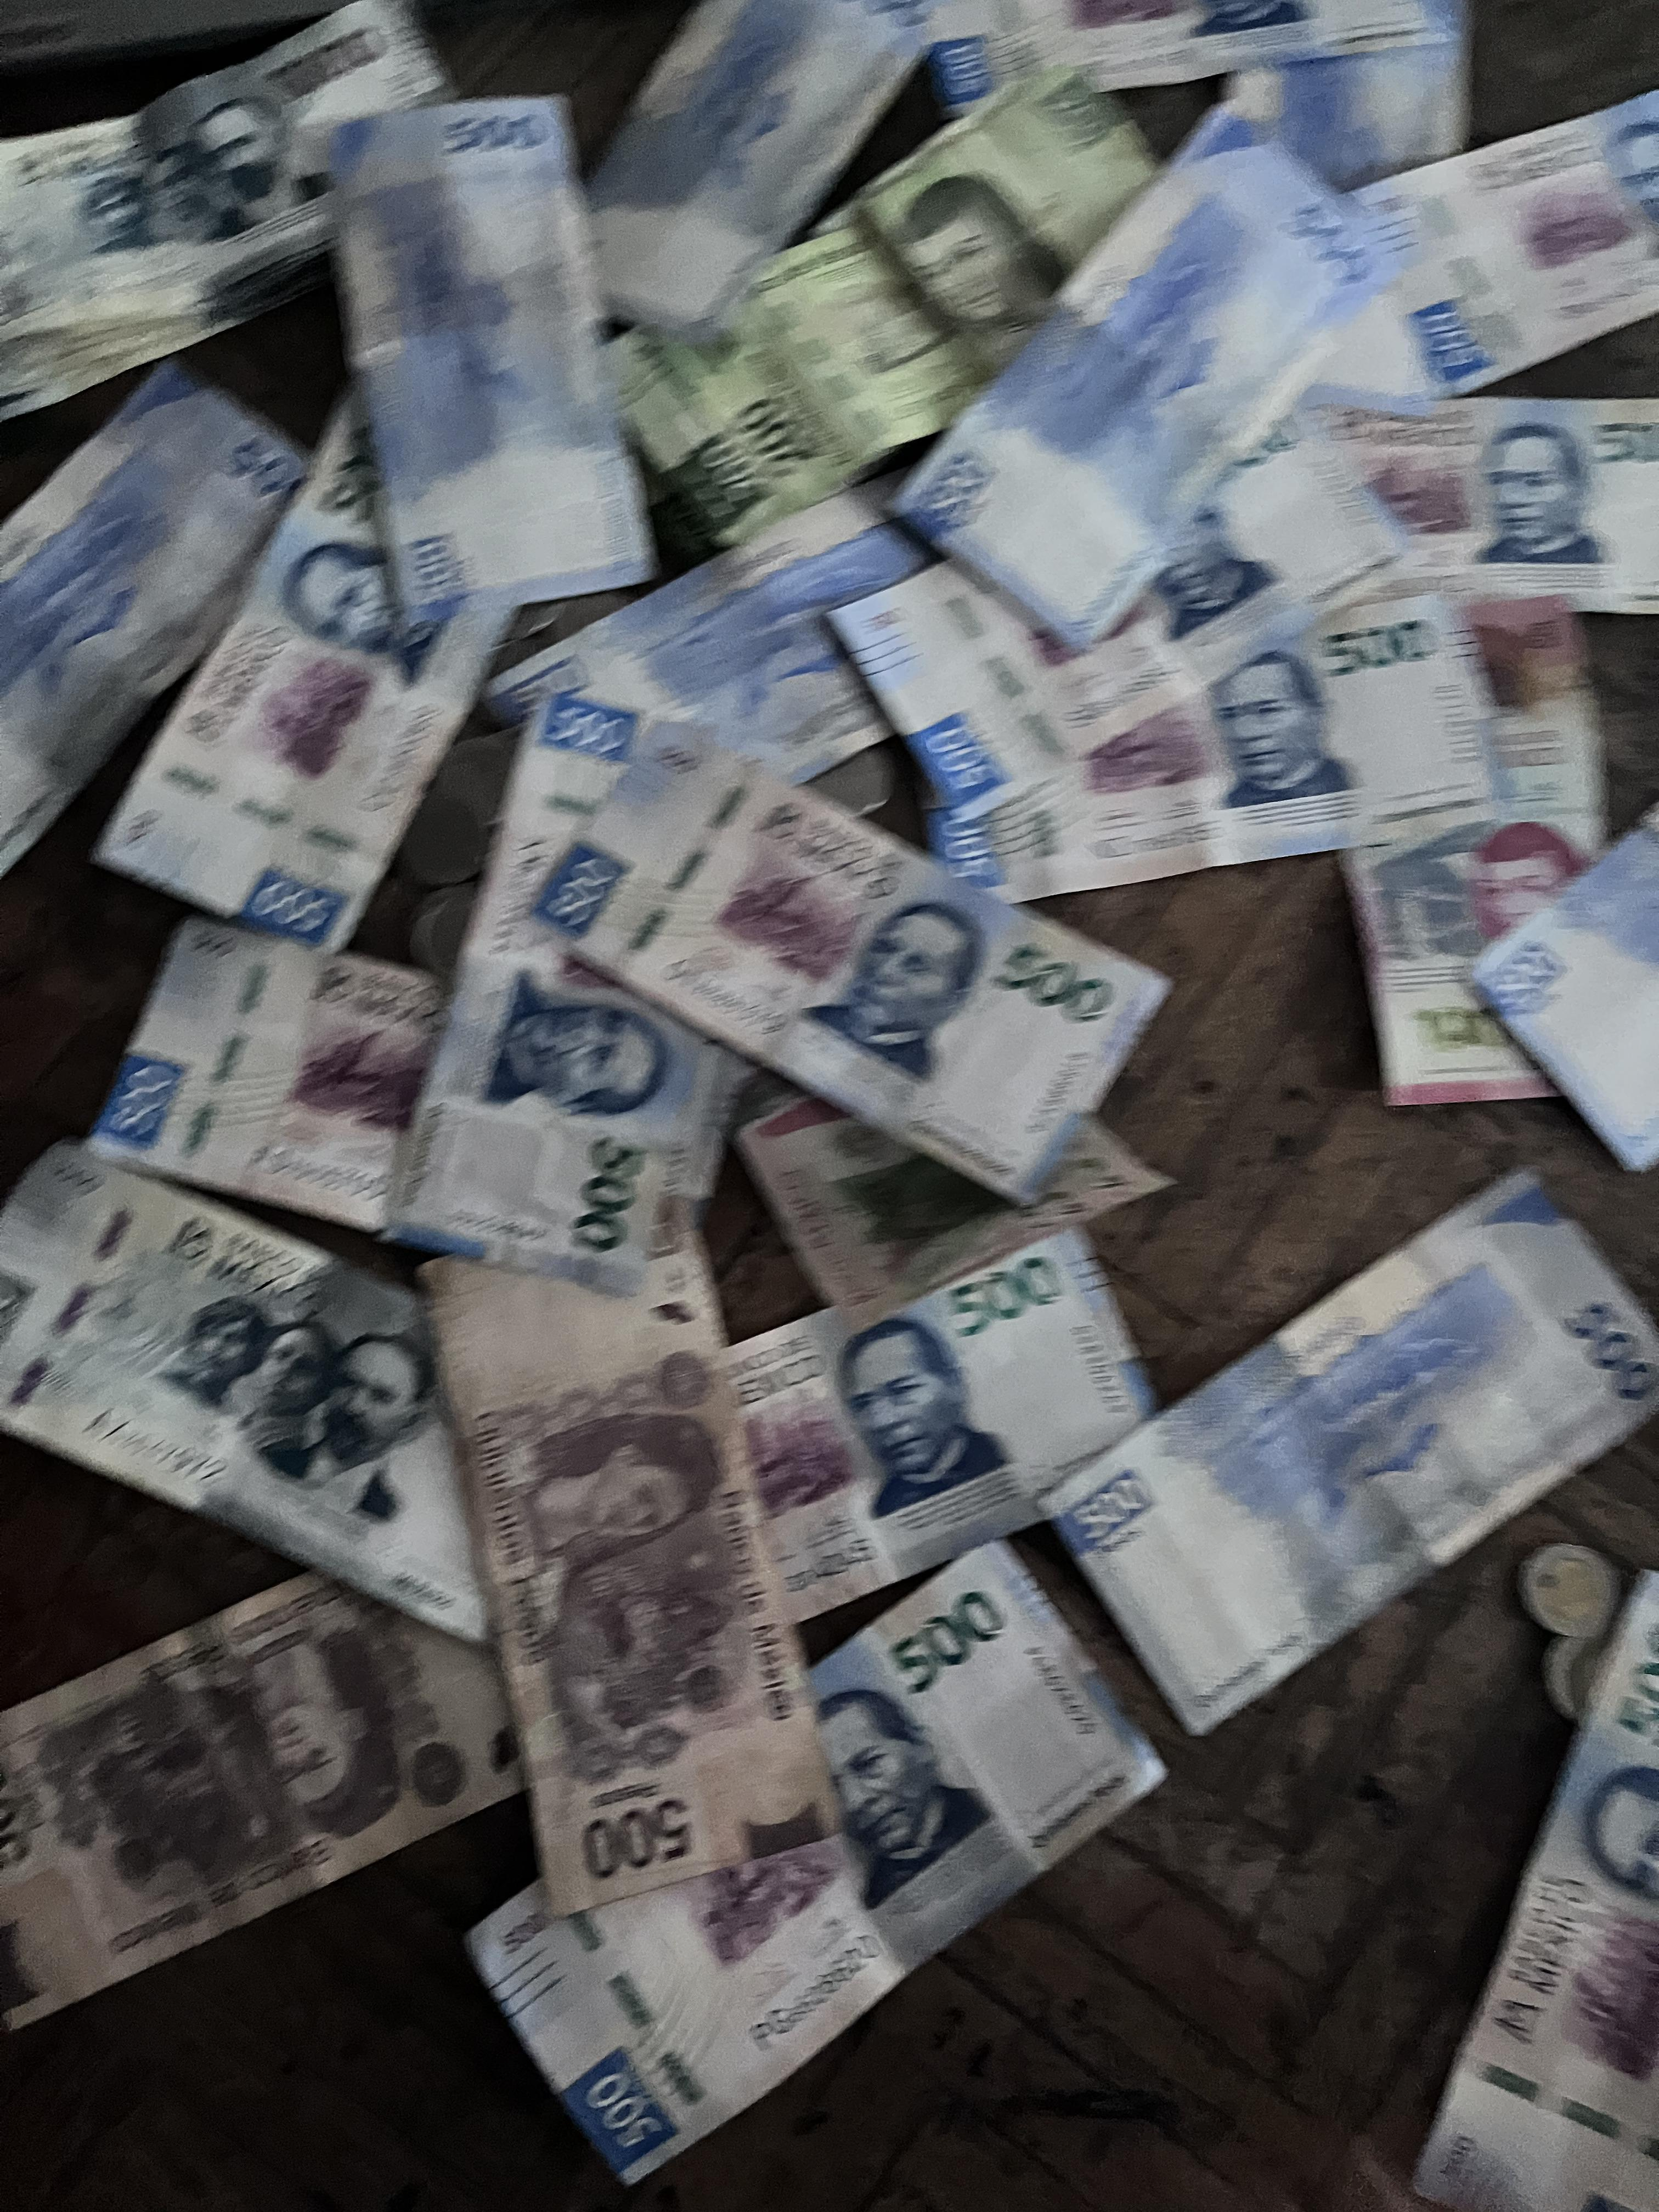100: (1349, 561, 1621, 1136)
1000: (0, 1132, 542, 1646), (14, 5, 443, 406)
200: (603, 94, 1168, 582)
500: (389, 1224, 889, 1865), (0, 1555, 511, 2067)
500 nuevo: (453, 1545, 1173, 2205), (1012, 1139, 1659, 1740), (521, 697, 1169, 1219), (931, 101, 1429, 620), (807, 444, 1467, 792), (491, 463, 1042, 848), (458, 664, 760, 1308), (0, 352, 321, 948), (1377, 1545, 1659, 2212), (301, 99, 664, 617), (645, 1226, 1148, 1588), (950, 583, 1500, 911), (157, 373, 464, 954), (518, 0, 941, 368), (110, 900, 448, 1256), (1182, 399, 1659, 629), (1358, 66, 1659, 423), (917, 0, 1502, 132), (1486, 749, 1659, 1170)
